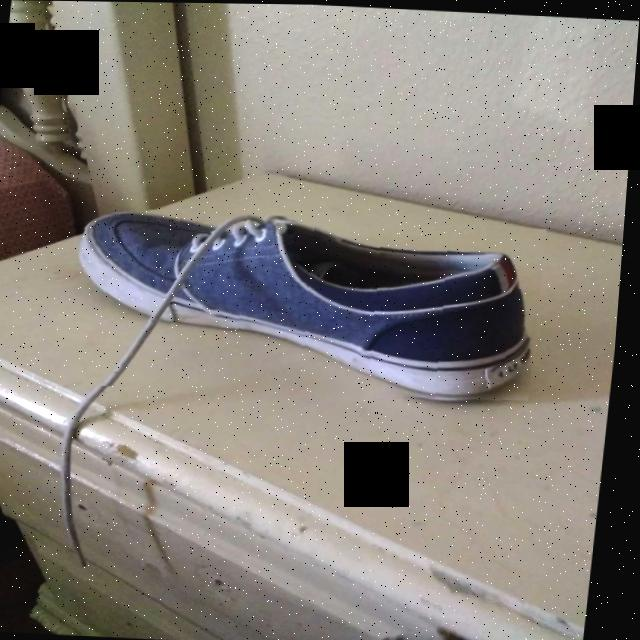shoe: (64, 205, 551, 406)
